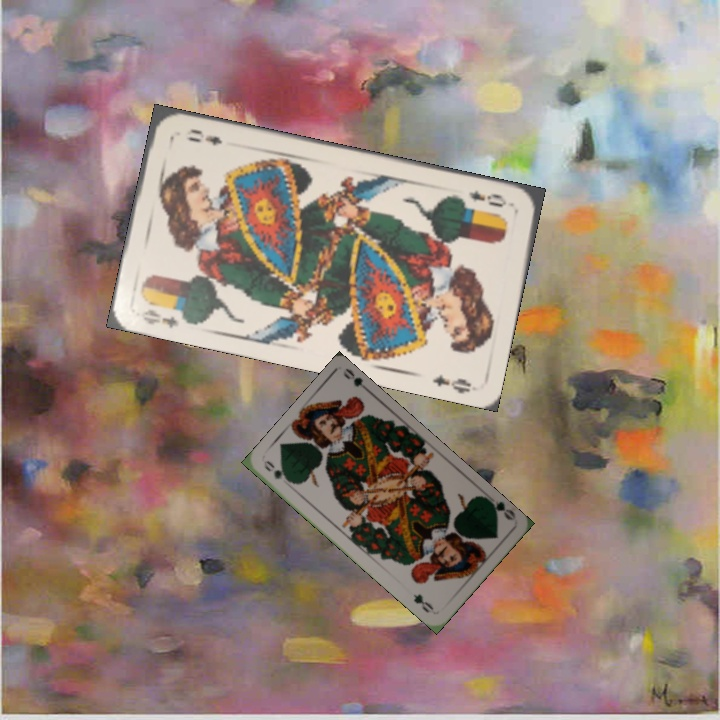EO: (465, 186, 515, 210), (137, 305, 181, 331)
GO: (482, 493, 518, 523), (260, 460, 296, 486)
